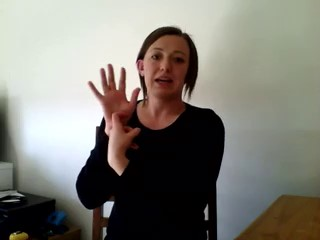R: (82, 58, 148, 175)
